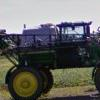Tractor: (12, 20, 100, 100)
